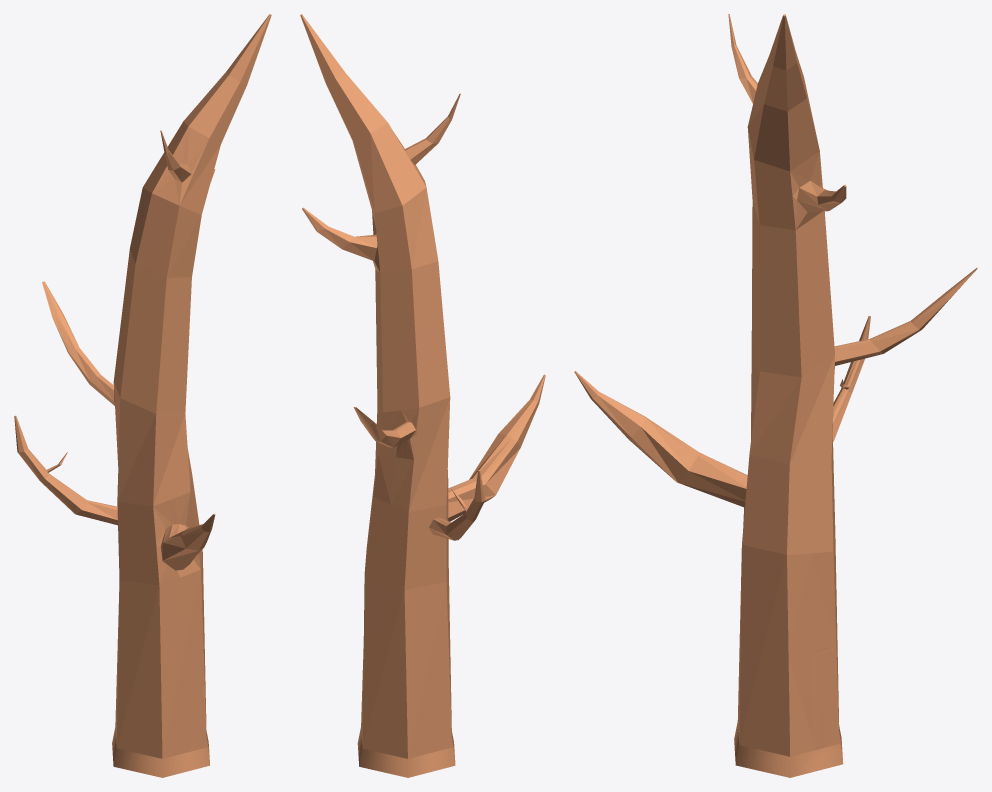
File: TreeModelB.gltf
3 views of the same model, side by side, from view 1: azimuth 30°, elevation 25°; view 2: azimuth 150°, elevation 25°; view 3: azimuth 270°, elevation 25° (orthographic). The views are drawn at different scales.
Parts seen in each view (by area): view 1: Cylinder001; view 2: Cylinder001; view 3: Cylinder001.
Boxes of the visible parts, left/top/right/bottom form: Cylinder001: left=14, top=14, right=271, bottom=777; Cylinder001: left=300, top=14, right=545, bottom=777; Cylinder001: left=574, top=14, right=977, bottom=777.
Size of the model in its own units: 81.18 by 253 by 116.
